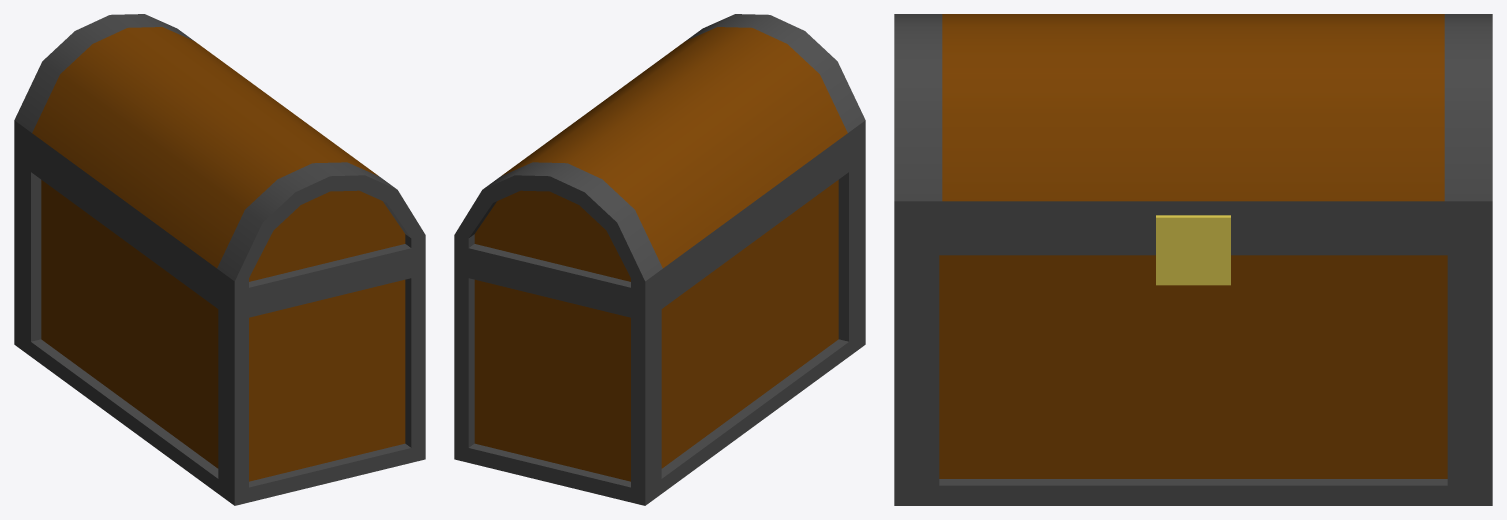
File: chest.glb
3 views of the same model, side by side, from view 1: azimuth 30°, elevation 25°; view 2: azimuth 150°, elevation 25°; view 3: azimuth 270°, elevation 25° (orthographic). The views are drawn at different scales.
Parts seen in each view (by area): view 1: Cube, Cube.002; view 2: Cube, Cube.002; view 3: Cube, Cube.002.
Boxes of the visible parts, box(x1,y1,x2,y2) form: Cube: box(14, 145, 425, 505); Cube.002: box(14, 14, 425, 305); Cube: box(454, 145, 865, 505); Cube.002: box(454, 14, 865, 305); Cube: box(894, 235, 1492, 505); Cube.002: box(894, 14, 1492, 285).
Bounding box in the file's own units: 0.4168 × 0.6269 × 0.8171.
